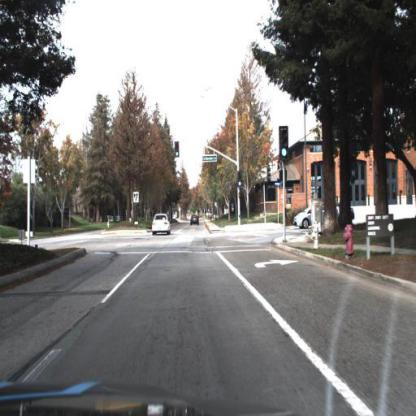car: (294, 204, 334, 232), (292, 203, 317, 231), (151, 212, 173, 238), (190, 213, 202, 229)
trafficLight-Green: (279, 127, 289, 161), (237, 170, 243, 189), (175, 142, 182, 158), (175, 141, 180, 161)
